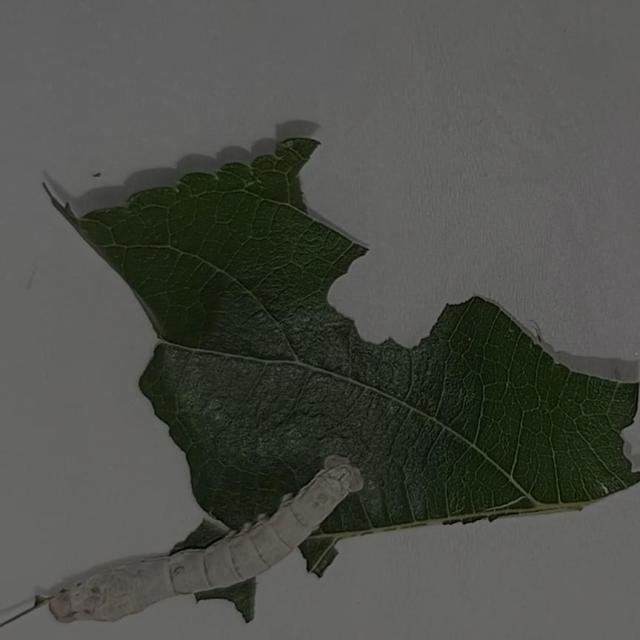Healthy: (1, 418, 378, 640)
